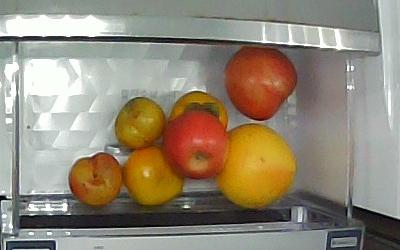apple: (224, 46, 298, 122), (162, 110, 230, 180)
grapefruit: (217, 123, 296, 210)
persimmon: (122, 148, 185, 204), (168, 91, 230, 133)
prune: (69, 153, 123, 206), (115, 94, 164, 150)
